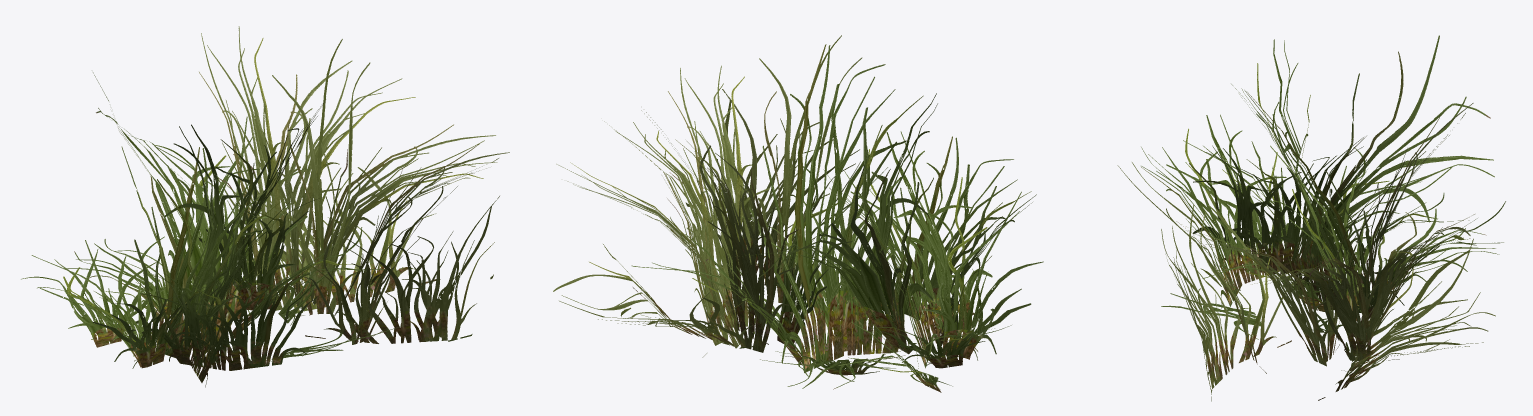
File: SM_Fol_Grass_Set2.fbx
3 views of the same model, side by side, from view 1: azimuth 30°, elevation 25°; view 2: azimuth 150°, elevation 25°; view 3: azimuth 270°, elevation 25° (orthographic). The views are drawn at different scales.
Parts seen in each view (by area): view 1: SM_Fol_Grass_Set2; view 2: SM_Fol_Grass_Set2; view 3: SM_Fol_Grass_Set2.
Part boxes in pixels (x1,y1,x2,y2): SM_Fol_Grass_Set2: [21, 26, 509, 387]; SM_Fol_Grass_Set2: [553, 35, 1043, 392]; SM_Fol_Grass_Set2: [1117, 35, 1505, 401].
Bounding box in the file's own units: 116 × 98.09 × 70.73.
Materials: 1 (1 with a texture image).
